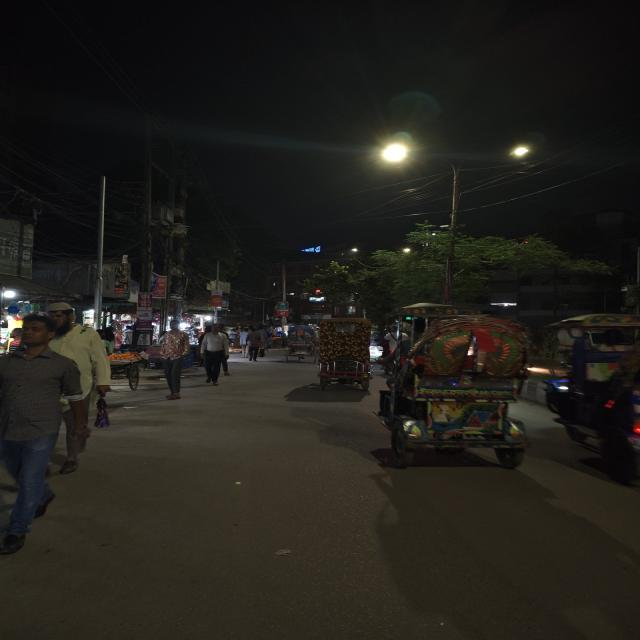pedestrian: (2, 314, 81, 544), (44, 302, 110, 474), (154, 314, 186, 404), (196, 322, 227, 386), (234, 325, 250, 359), (245, 326, 259, 363), (258, 324, 268, 355)
rickshaw: (374, 304, 534, 476), (304, 317, 377, 393), (285, 322, 317, 363)
